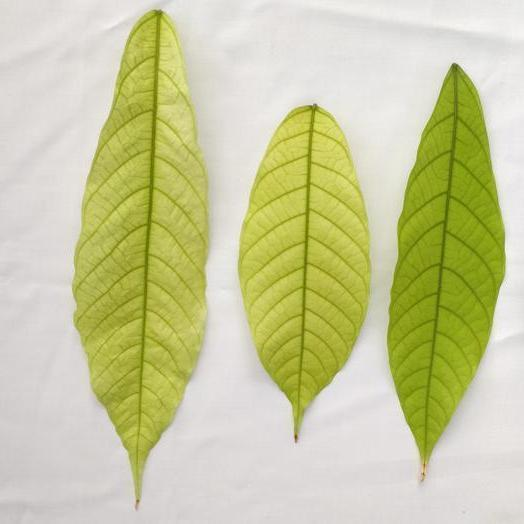Iron: (74, 10, 207, 506), (389, 64, 505, 477), (238, 104, 369, 441)
